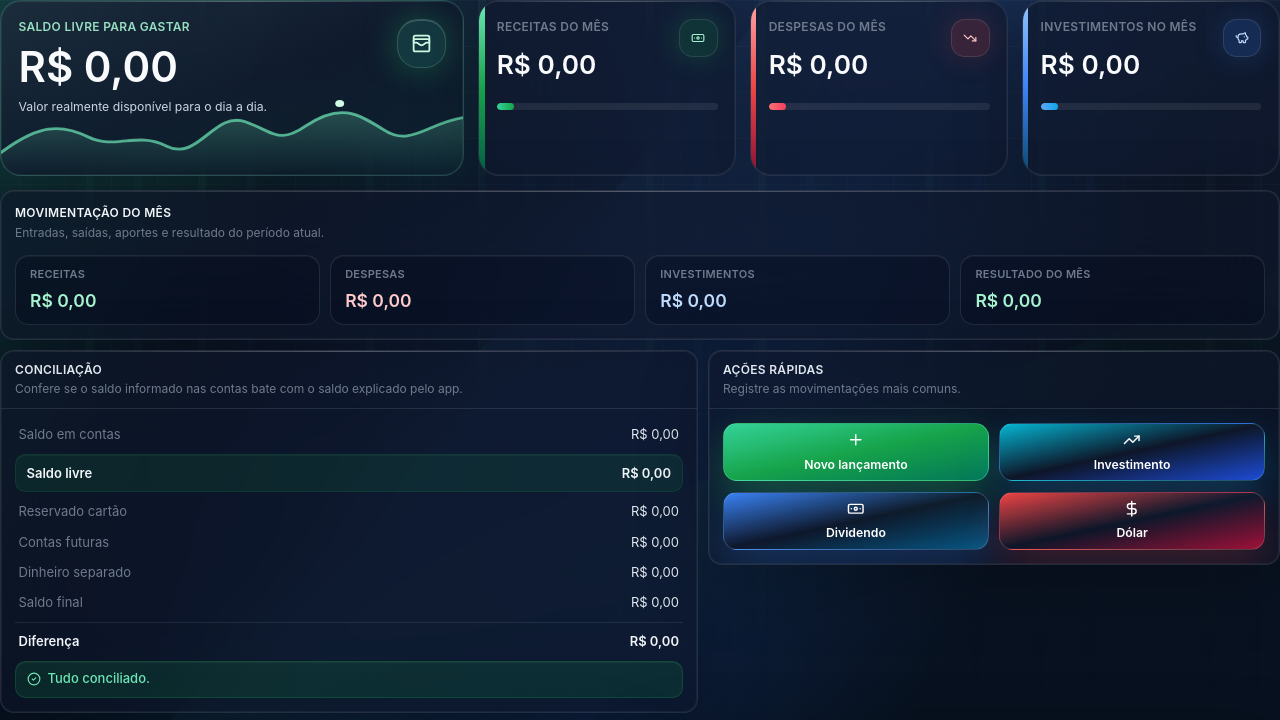
Dashboard quick actions › abre modal de dividendos
The image size is (1280, 720).
Click the button with aria-label "registrar dividendo" at (856, 533), box x1=723 y1=492 x2=989 y2=550
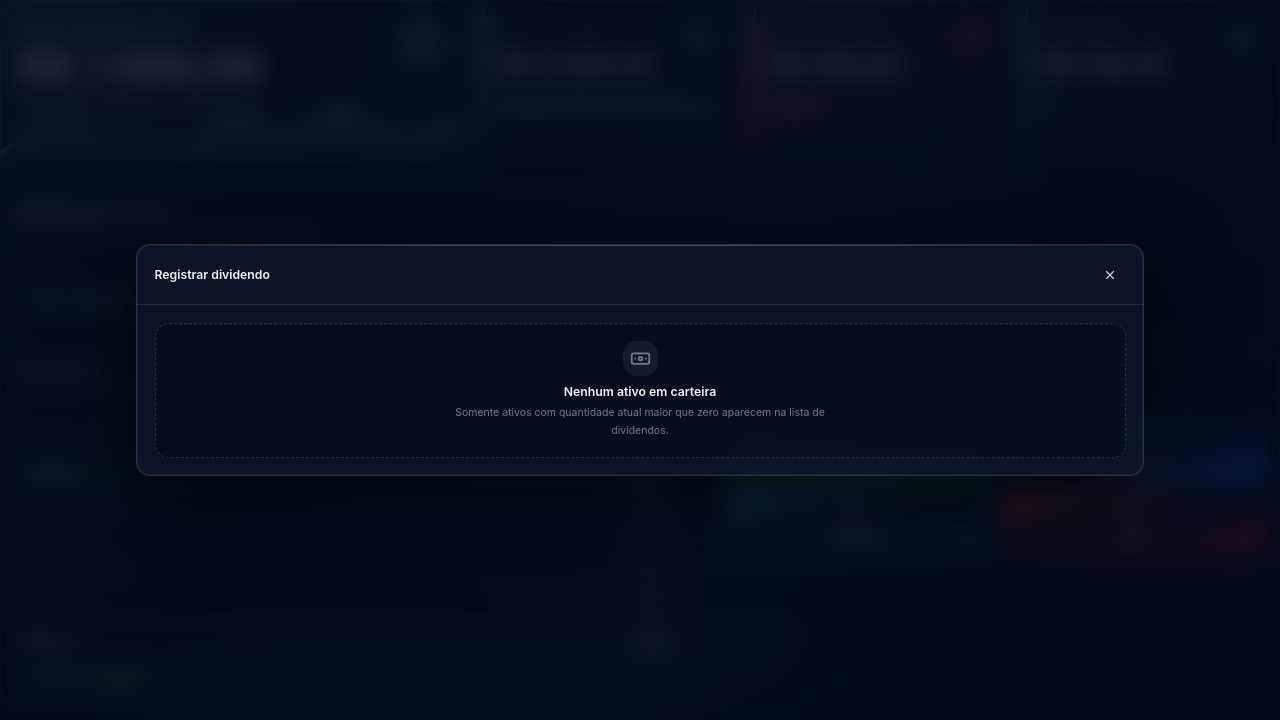
Result: the heading "Registrar dividendo" is shown at x1=154 y1=266 x2=270 y2=283
